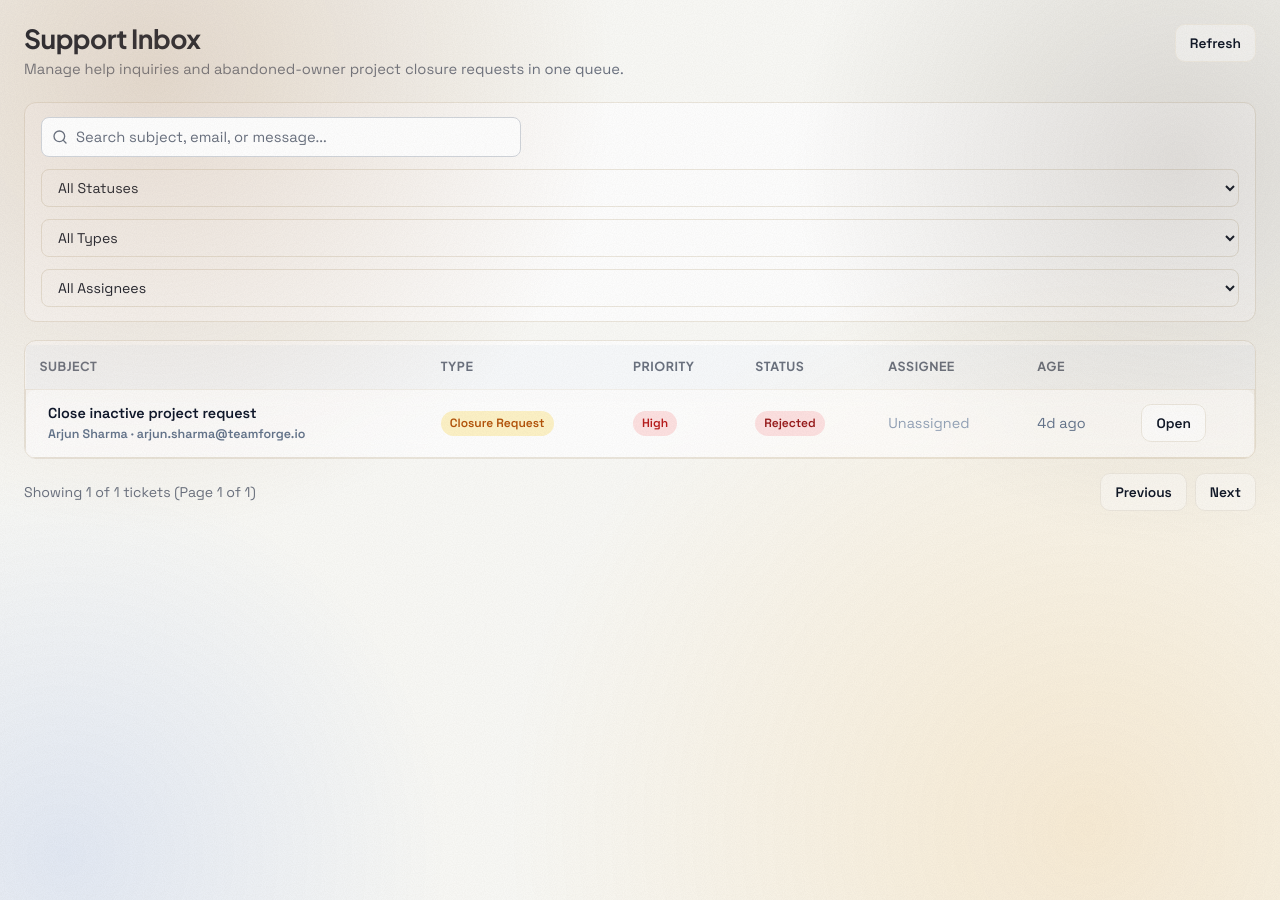
Test: Step 4 Frontend Tests: Resolved or Rejected Support Tickets Must Be Read-Only › 3. Drawer hides reply box, internal-note toggle, and Close Project button on terminal tickets
The width and height of the screenshot is (1280, 900).
expect the row with test id "ticket-row-ticket-rejected-1" is shown: met, box [26,389,1254,457]
Click the button with test id "open-ticket-ticket-rejected-1".
click(1174, 423)  # box [1141,404,1206,442]
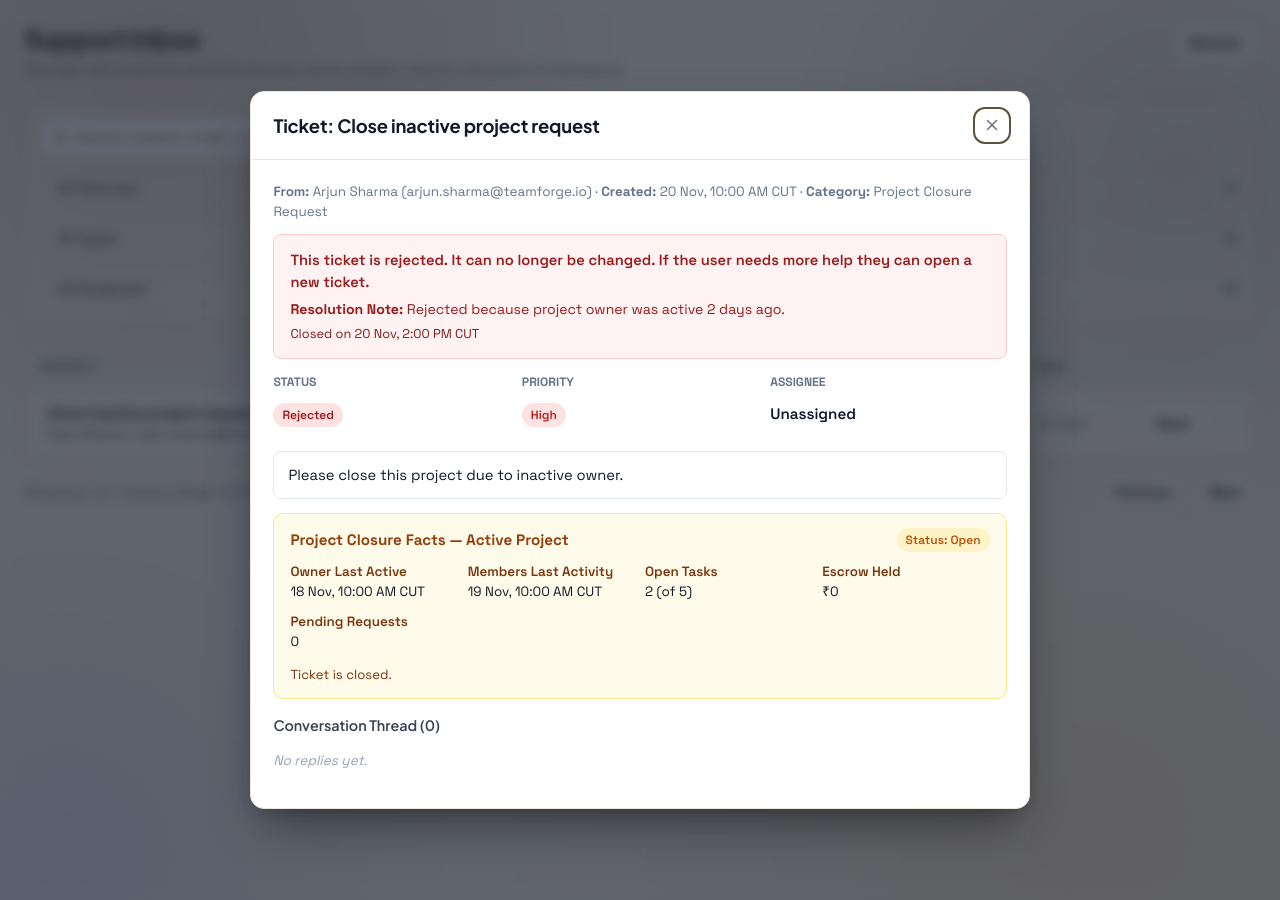
expect the element with test id "ticket-readonly-banner" is shown: met, box [273,234,1007,359]
